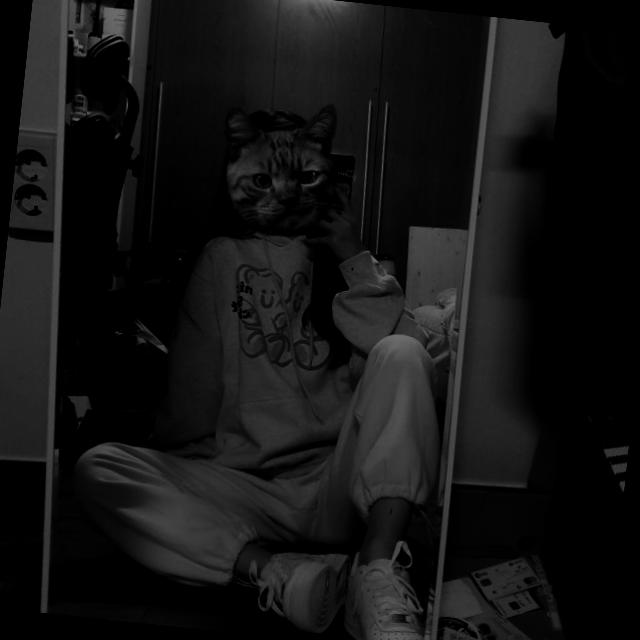hoodies: (146, 216, 450, 488)
trainingpants: (56, 300, 453, 608)
